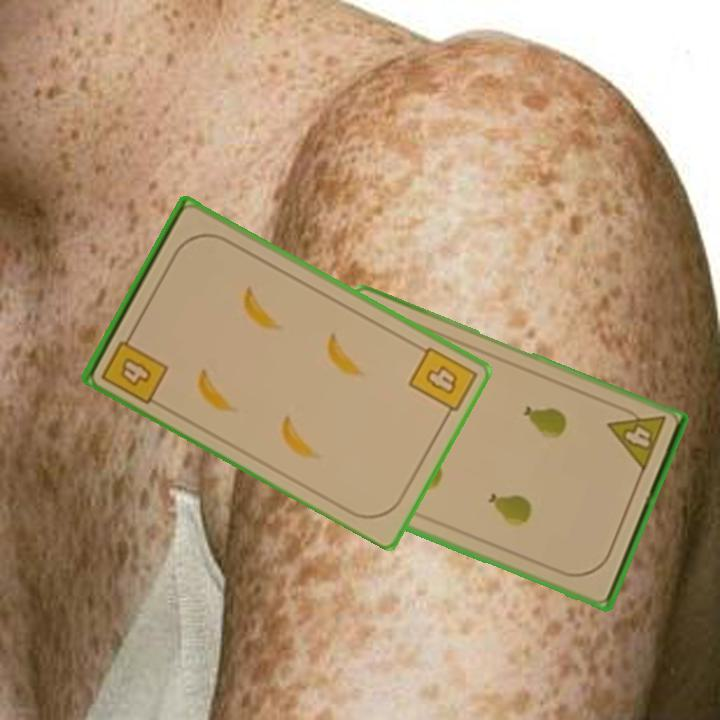4b: (97, 325, 171, 406), (405, 342, 479, 422)
4p: (605, 402, 668, 475)
